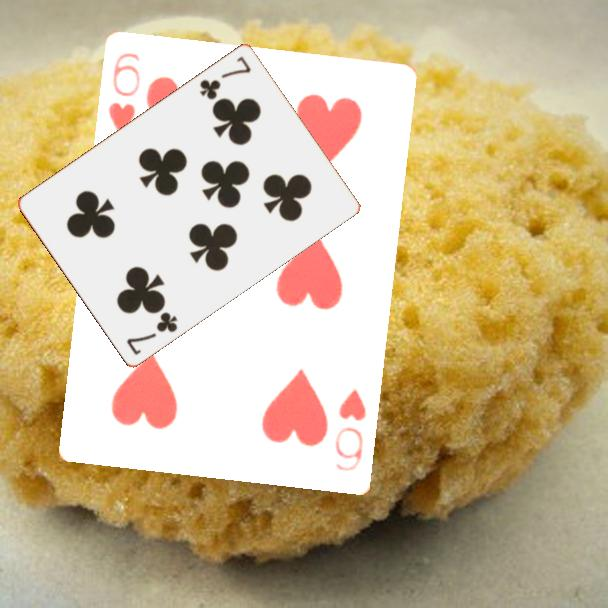c07: (196, 52, 254, 102), (123, 308, 181, 358)
h06: (105, 49, 144, 138), (332, 385, 370, 475)
